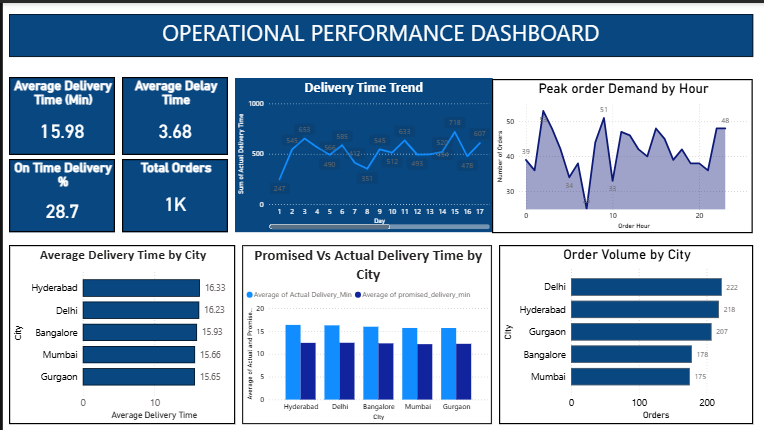

What the dashboard file says about the page in this screenshot:
{"tool":"powerbi","page":{"name":"Operational Performance  Dashboard","canvas":[1280,720],"ordinal":0},"visuals":[{"type":"textbox","box":[10.1,18.5,1249.8,72.2],"z":0},{"type":"card","title":"Average Delivery Time  (Min)","fields":{"Values":["Avg(Blinkit_Orders.actual_delivery_min)"]},"box":[10.1,124.3,178.1,131],"z":1000},{"type":"card","title":"On Time Delivery %","fields":{"Values":["Blinkit_Orders.ON TIME DELIVERY RATE"]},"box":[10.1,262,178.1,122.6],"z":2000},{"type":"card","title":"Average Delay Time ","fields":{"Values":["Blinkit_Orders.Avearge Delay time"]},"box":[199.9,124.3,178.1,131],"z":3000},{"type":"card","title":"Total Orders","fields":{"Values":["Blinkit_Orders.Total Orders"]},"box":[199.9,262,178.1,122.6],"z":4000},{"type":"clusteredBarChart","title":"Average Delivery Time by City","fields":{"Category":["Blinkit_Orders.city"],"Y":["Avg(Blinkit_Orders.Actual Delivery_Min)"]},"box":[10.1,406.5,379.6,300.7],"z":5000},{"type":"lineChart","title":"Delivery Time Trend","fields":{"Category":["Blinkit_Orders.order_time.Variation.Date Hierarchy.Year","Blinkit_Orders.order_time.Variation.Date Hierarchy.Quarter","Blinkit_Orders.order_time.Variation.Date Hierarchy.Month","Blinkit_Orders.order_time.Variation.Date Hierarchy.Day"],"Y":["Sum(Blinkit_Orders.Actual Delivery_Min)"]},"box":[389.1,126.8,433.1,258.8],"z":6000},{"type":"clusteredColumnChart","title":"Promised Vs Actual Delivery Time by City","fields":{"Y":["Avg(Blinkit_Orders.Actual Delivery_Min)","Avg(Blinkit_Orders.promised_delivery_min)"],"Category":["Blinkit_Orders.city"]},"box":[401.5,406.5,419.9,300.7],"z":7000},{"type":"clusteredBarChart","title":"Order Volume by City","fields":{"Category":["Blinkit_Orders.city"],"Y":["CountNonNull(Blinkit_Orders.order_id)"]},"box":[833.2,406.5,426.7,300.7],"z":8000},{"type":"areaChart","title":"Peak order Demand by Hour","fields":{"Category":["Blinkit_Orders.Order Hour"],"Y":["CountNonNull(Blinkit_Orders.order_id)"]},"box":[822,127,438,259],"z":8001}]}

Visuals, with their boxes in screenshot pixels (x1, y1, x2, y2), scaled from the page's 1280x720 canvas onto the 764x430 screenshot:
textbox: locate(6, 11, 752, 54)
"Average Delivery Time  (Min)" card: locate(6, 74, 112, 152)
"On Time Delivery %" card: locate(6, 156, 112, 230)
"Average Delay Time " card: locate(119, 74, 226, 152)
"Total Orders" card: locate(119, 156, 226, 230)
"Average Delivery Time by City" clusteredBarChart: locate(6, 243, 233, 422)
"Delivery Time Trend" lineChart: locate(232, 76, 491, 230)
"Promised Vs Actual Delivery Time by City" clusteredColumnChart: locate(240, 243, 490, 422)
"Order Volume by City" clusteredBarChart: locate(497, 243, 752, 422)
"Peak order Demand by Hour" areaChart: locate(491, 76, 752, 231)
